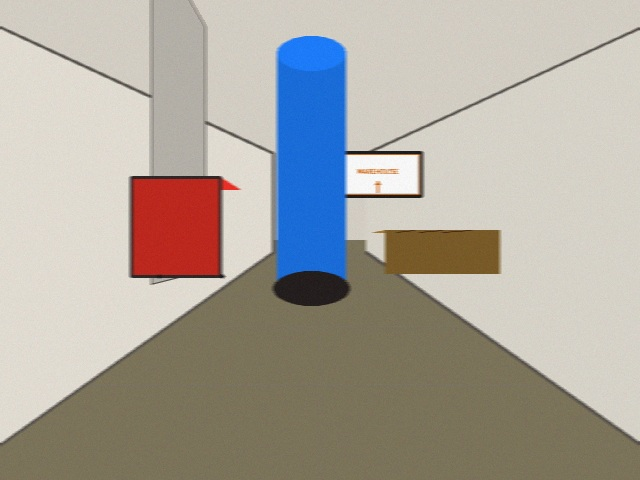cart: (131, 177, 239, 276)
directional_sign: (334, 152, 421, 196)
pallet: (373, 230, 499, 273)
person: (277, 53, 345, 288)
